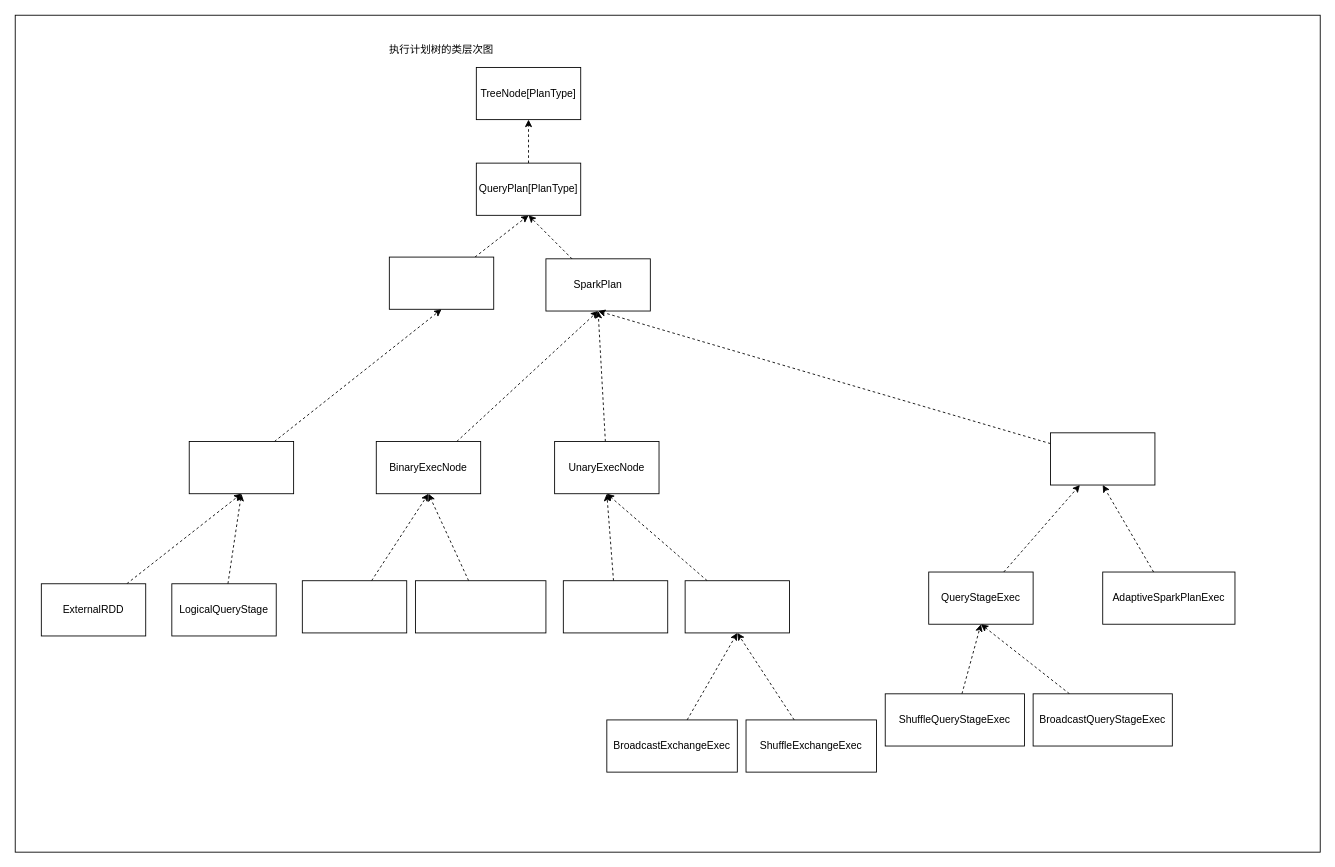
Image size: 1335x867. Some labels were removed from this diagram. The centre of each missing label's shape, as x and y in pixels:
"BroadcastHashJoinExec" belongs at [480,606].
"Exchange" belongs at [737,606].
"InputAdapter" belongs at [615,606].
"LeafExecNode" belongs at [1102,458].
"LeafNode" belongs at [241,467].
"LogicalPlan" belongs at [441,282].
"SortMergeJoinExec" belongs at [354,606].
